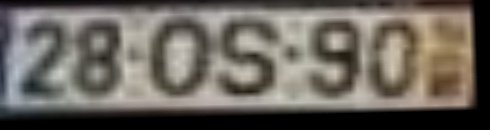0: (367, 16, 425, 103)
2: (19, 17, 77, 104)
8: (75, 15, 129, 103)
9: (305, 18, 367, 104)
O: (144, 15, 214, 102)
S: (215, 18, 287, 102)
